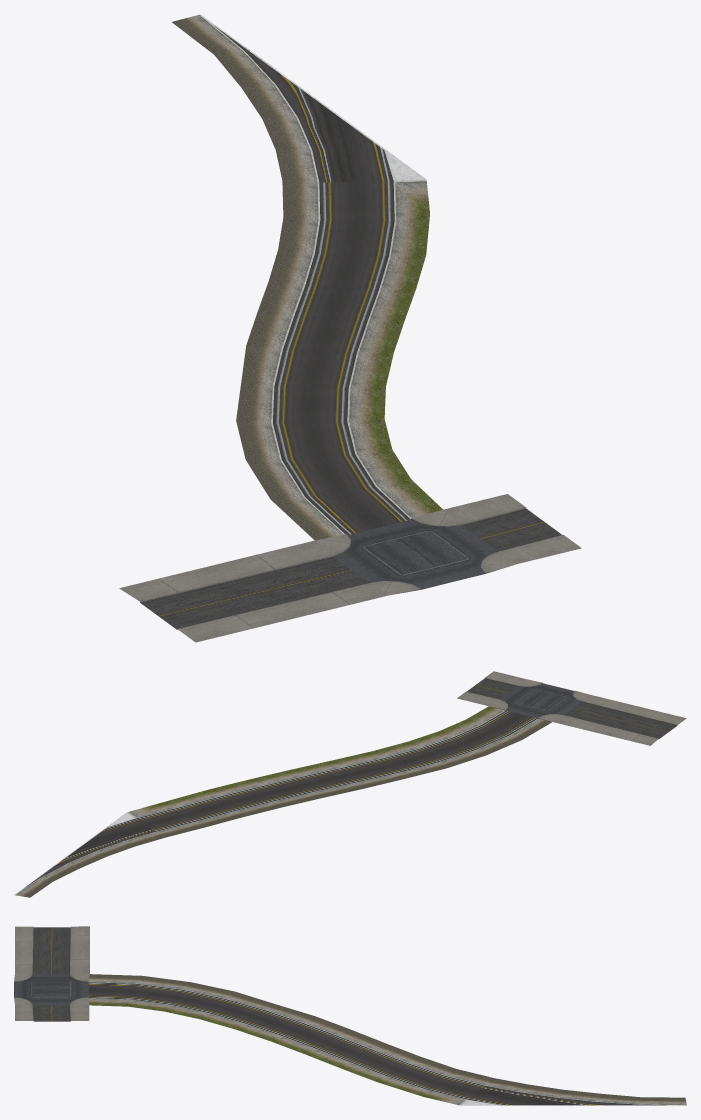
File: vegasnroad623.obj
3 views of the same model, one above another, from view 1: azimuth 30°, elevation 25°; view 2: azimuth 150°, elevation 25°; view 3: azimuth 270°, elevation 25° (orthographic). The views are drawn at different scales.
Parts seen in each view (by area): view 1: VegasNroad623; view 2: VegasNroad623; view 3: VegasNroad623.
Boxes of the visible parts, left/top/right/bottom form: VegasNroad623: left=119, top=14, right=581, bottom=642; VegasNroad623: left=14, top=671, right=686, bottom=897; VegasNroad623: left=14, top=926, right=686, bottom=1105.
Bounding box in the file's own units: 105 × 4.42 × 181.
10 materials, 10 textured.
